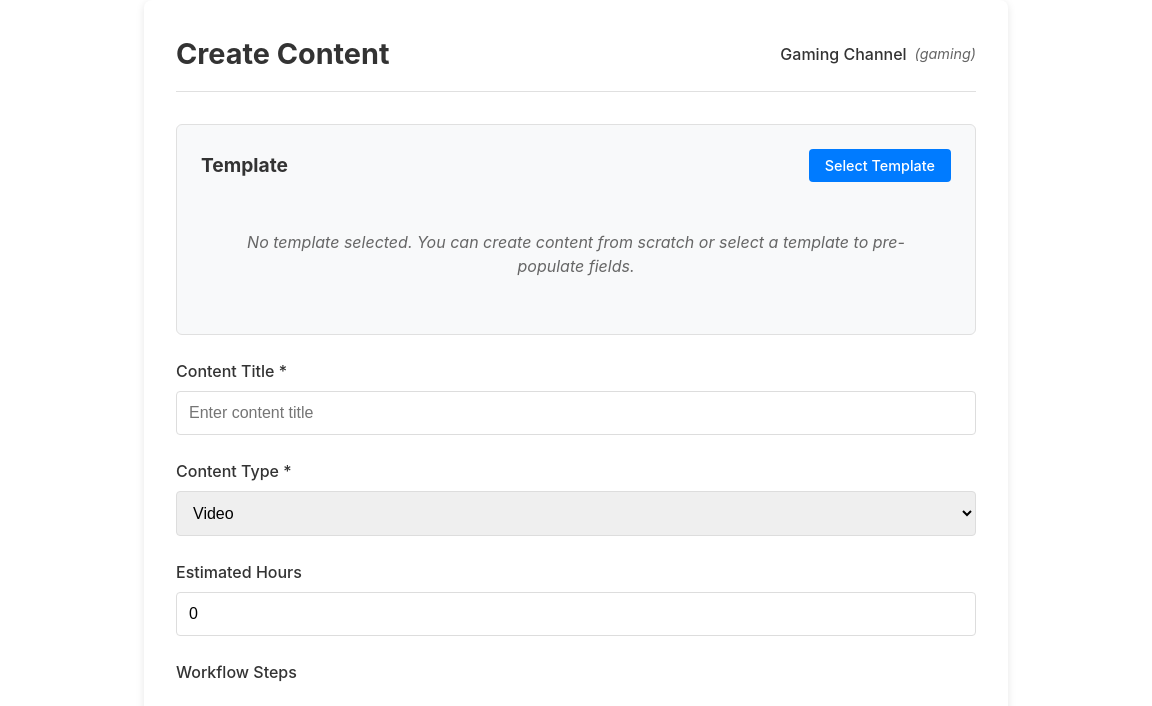
Test: ContentCreationForm › shows change template button when template is selected
Open template picker and select template
What coordinates should you click on to do the following:
click the button "Select Template"
I would click on:
 (880, 166)
Its box is [809, 149, 951, 182].
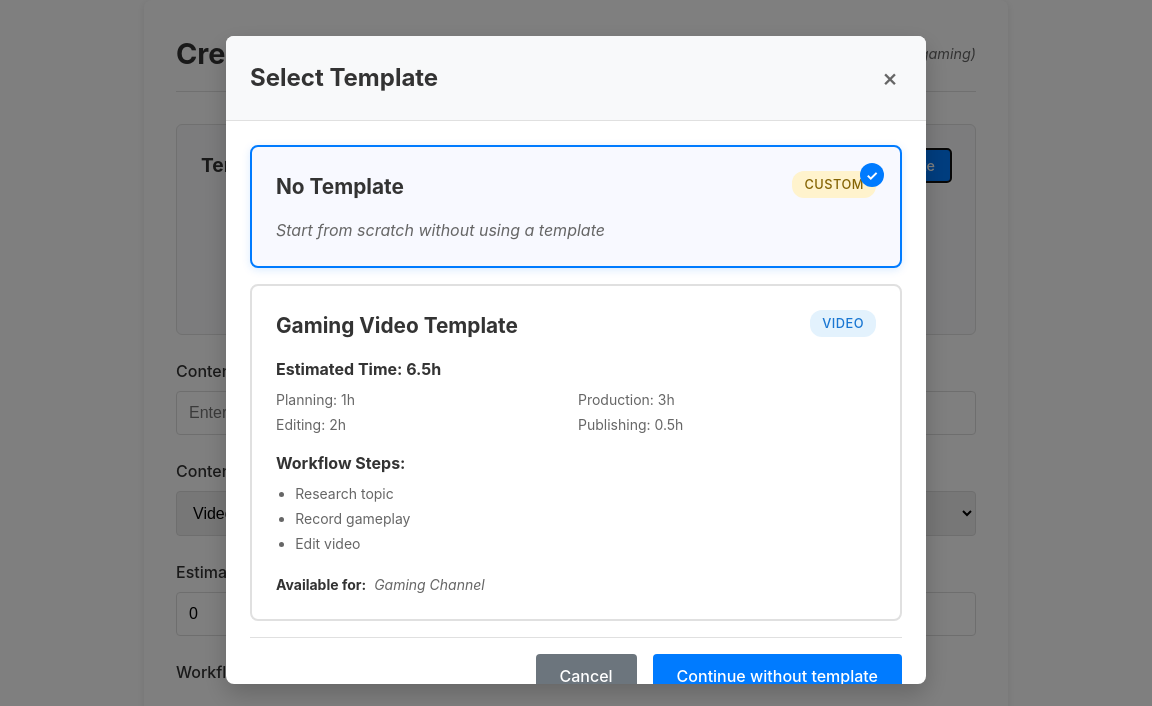
What coordinates should you click on to do the following:
click the radio button showing "template-1"
I would click on:
 (576, 453)
Its box is [250, 284, 902, 621].
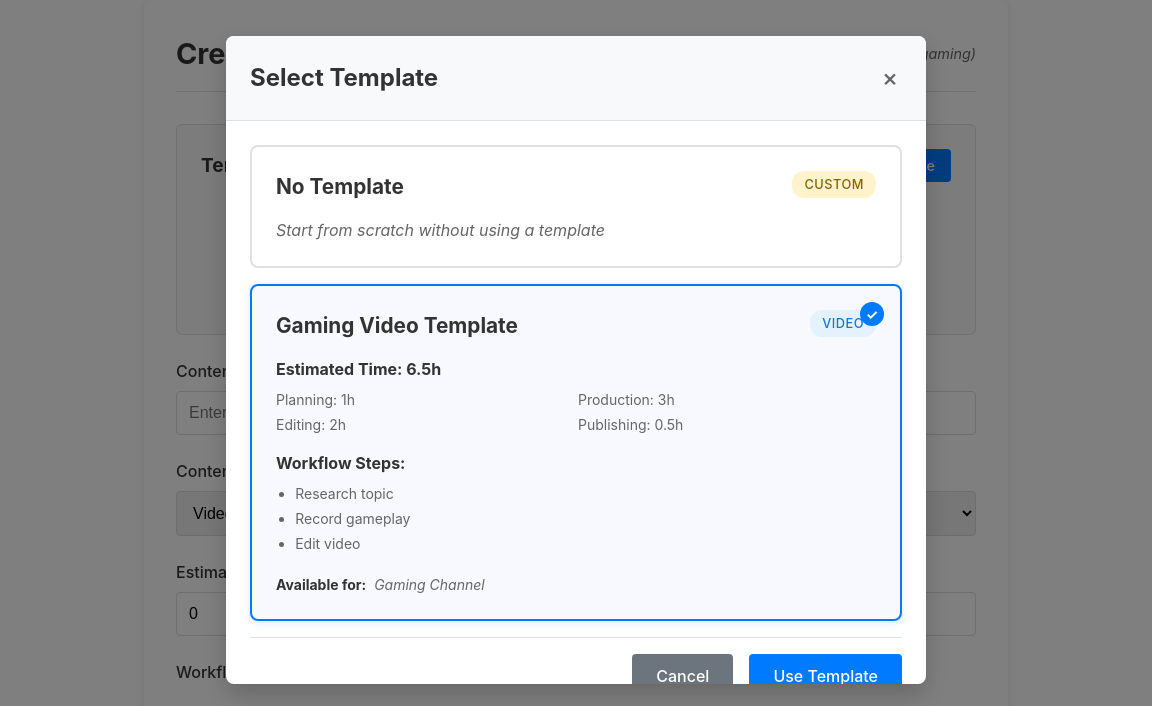
What coordinates should you click on to do the following:
click the button "Use Template"
I would click on:
 (826, 676)
Its box is [749, 654, 902, 698].
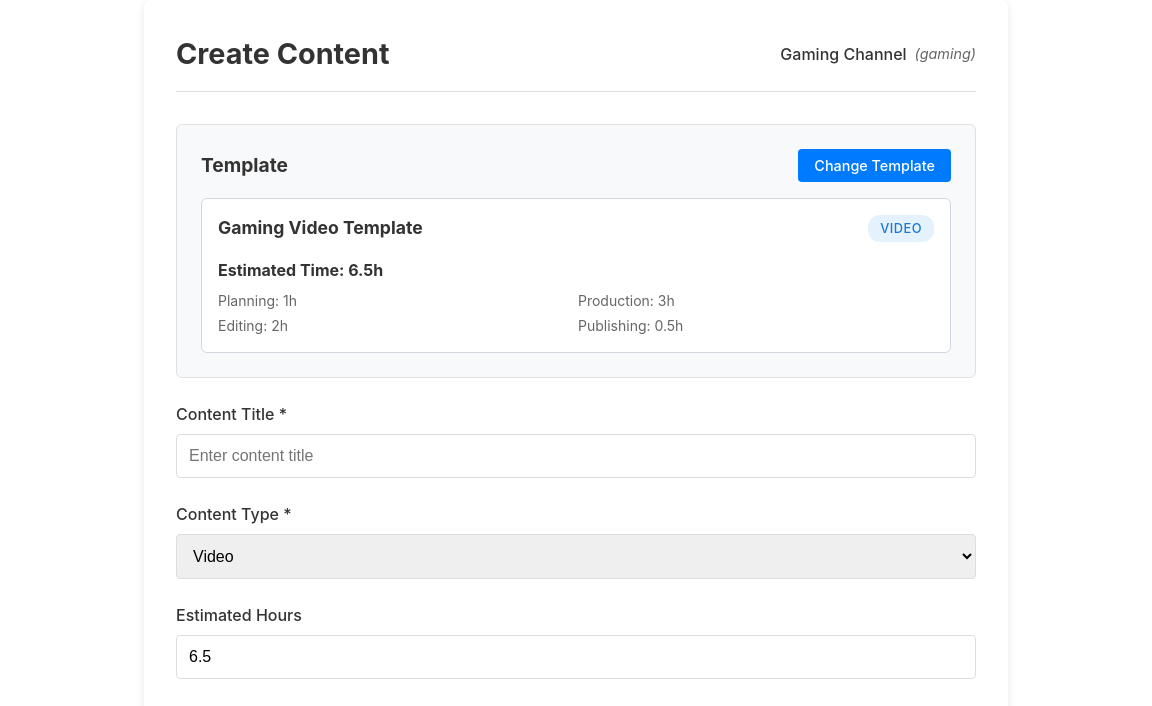
Result: the button "Change Template" is shown at [798, 149, 951, 182]
